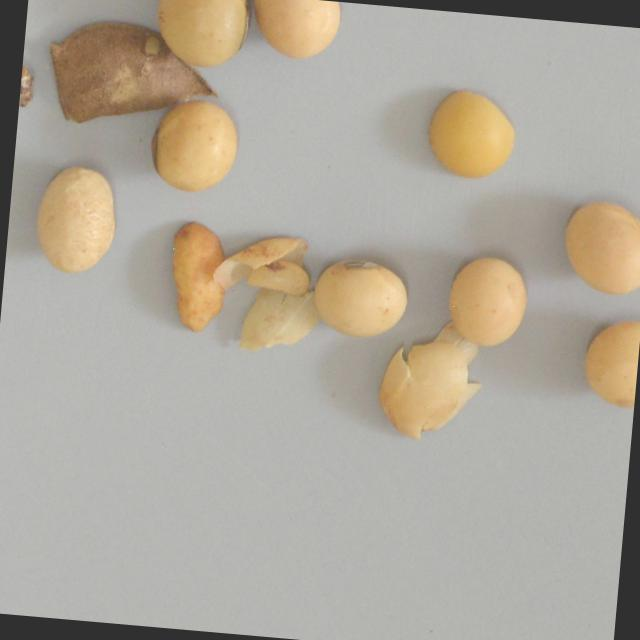cuerpos_extranos: (36, 18, 220, 137), (303, 239, 413, 352), (430, 243, 540, 355), (371, 333, 480, 446), (415, 76, 524, 188), (26, 156, 120, 277), (145, 94, 241, 202), (550, 189, 640, 301), (227, 285, 334, 361), (206, 228, 312, 303), (162, 218, 228, 335), (146, 0, 253, 71), (572, 305, 640, 414), (240, 0, 346, 66), (17, 55, 35, 111)
